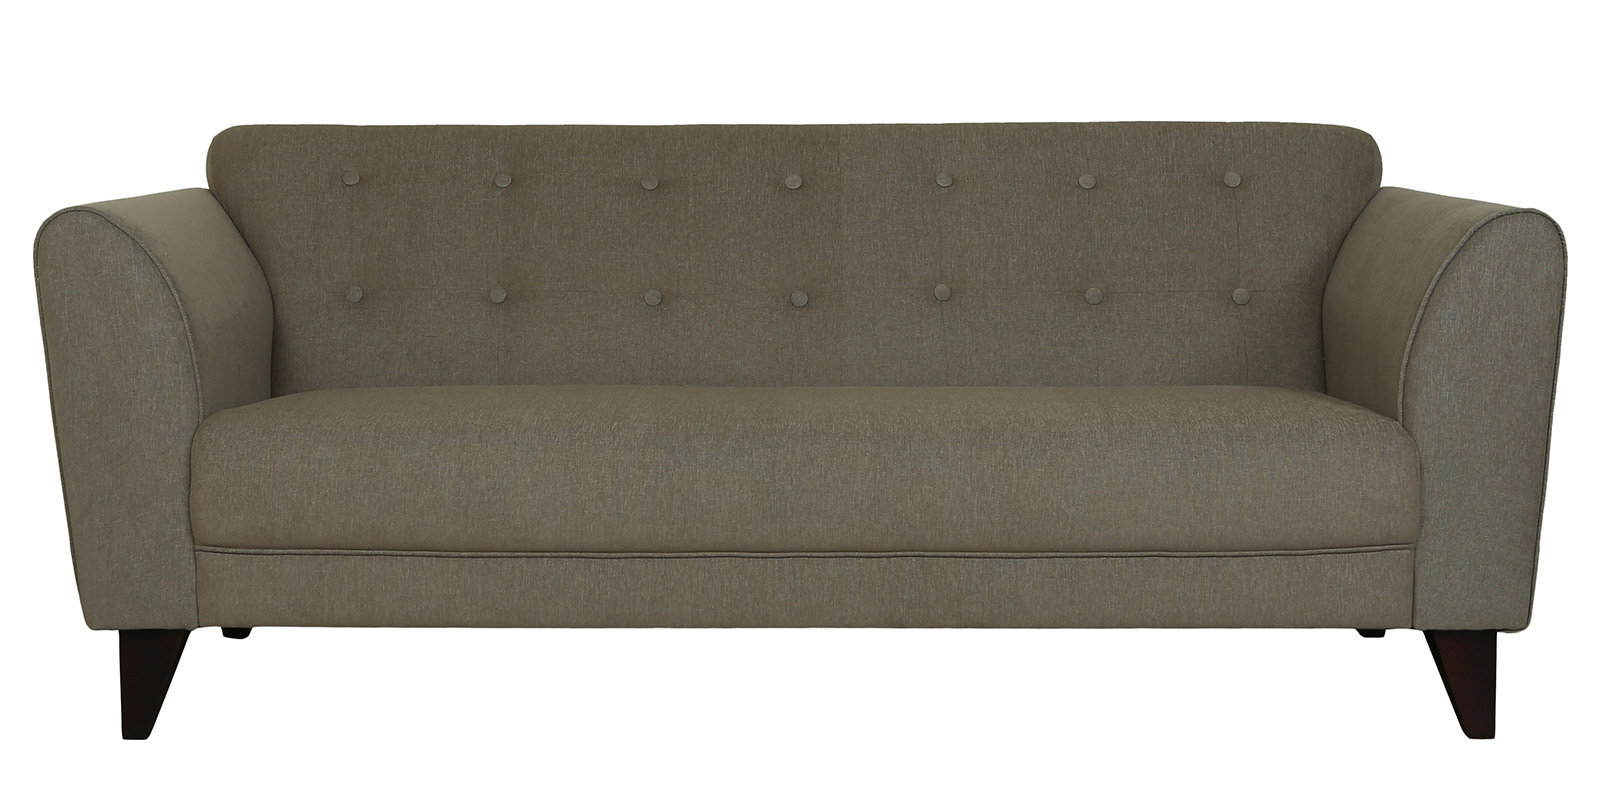Belem Three Seater Sofa in Ice Blue Color by CasaCraft: (7, 107, 1593, 698)
